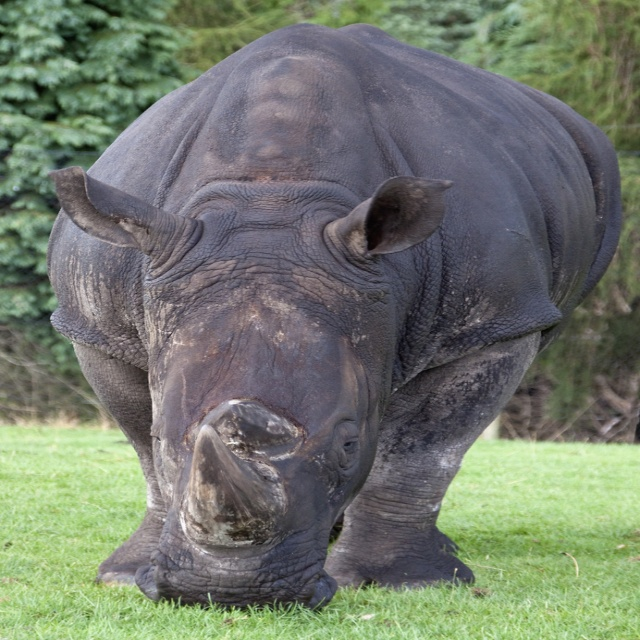Rhinoceros: (43, 19, 627, 615)
